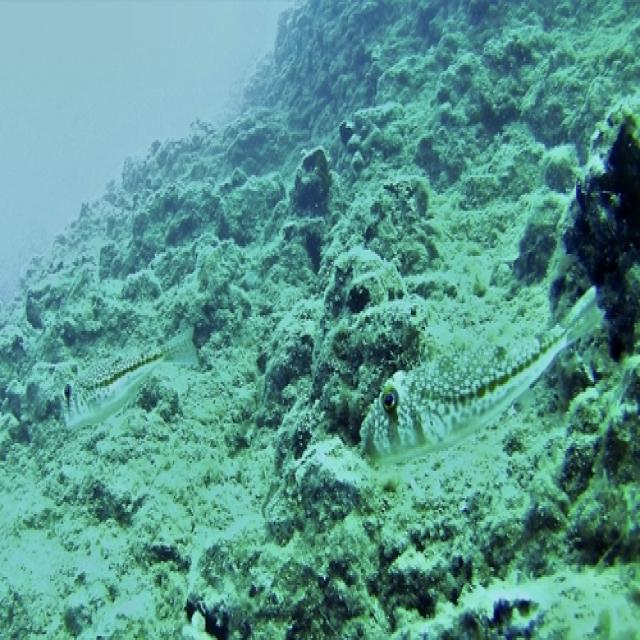Balik: (361, 288, 602, 460), (63, 327, 198, 427)
